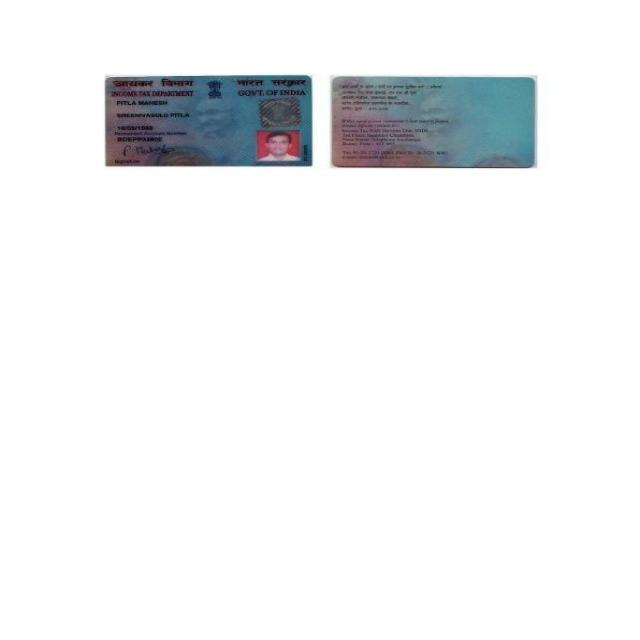pan_card: (103, 75, 314, 167), (332, 76, 534, 167)
